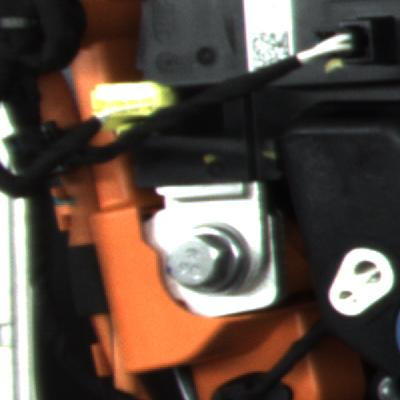nut_b: (152, 219, 260, 303)
